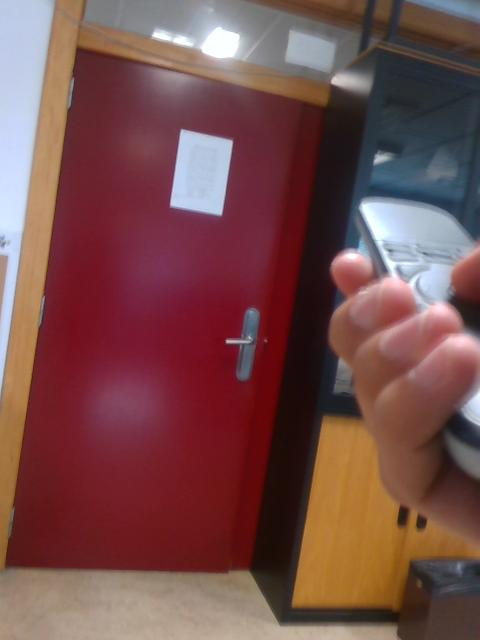door: (3, 40, 327, 573)
